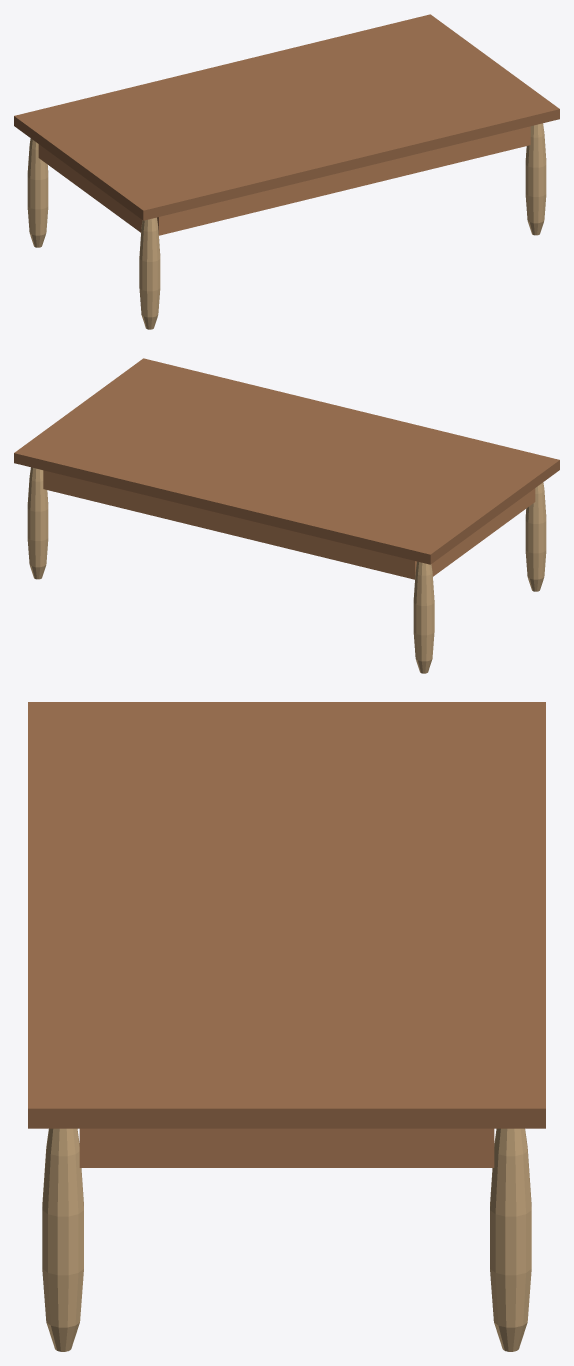
Rendered from CAL-COF-long.glb.
The picture shows the model from 3 angles, top to bottom: view 1: azimuth 30°, elevation 25°; view 2: azimuth 150°, elevation 25°; view 3: azimuth 270°, elevation 25°; orthographic projection. The views are drawn at different scales.
Parts seen in each view (by area): view 1: top:pbr, apron-f:pbr, leg-fl:pbr, leg-fr:pbr, leg-bl:pbr, apron-l:pbr; view 2: top:pbr, apron-b:pbr, leg-bl:pbr, leg-br:pbr, leg-fl:pbr, apron-l:pbr; view 3: top:pbr, apron-r:pbr, leg-fr:pbr, leg-br:pbr.
Part boxes in pixels (box(x1,y1,x2,y2)): top:pbr: box(14, 14, 559, 220); apron-f:pbr: box(157, 126, 530, 235); leg-fl:pbr: box(139, 217, 160, 329); leg-fr:pbr: box(525, 123, 546, 235); leg-bl:pbr: box(27, 138, 48, 247); apron-l:pbr: box(38, 144, 142, 232); top:pbr: box(14, 358, 559, 564); apron-b:pbr: box(43, 470, 416, 579); leg-bl:pbr: box(413, 561, 434, 673); leg-br:pbr: box(27, 467, 48, 579); leg-fl:pbr: box(525, 482, 546, 591); apron-l:pbr: box(431, 488, 535, 576); top:pbr: box(28, 702, 545, 1128); apron-r:pbr: box(79, 1128, 494, 1167); leg-fr:pbr: box(42, 1128, 83, 1351); leg-br:pbr: box(490, 1128, 531, 1351).
Size of the model in its own units: 1.3 by 0.38 by 0.7.
